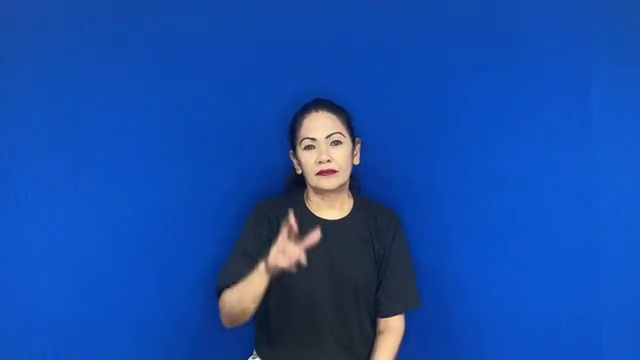chicken: (264, 204, 327, 283)
